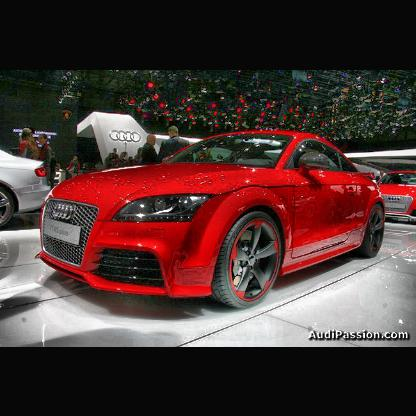Audi TT RS Coupe 2012: (36, 131, 387, 310)
